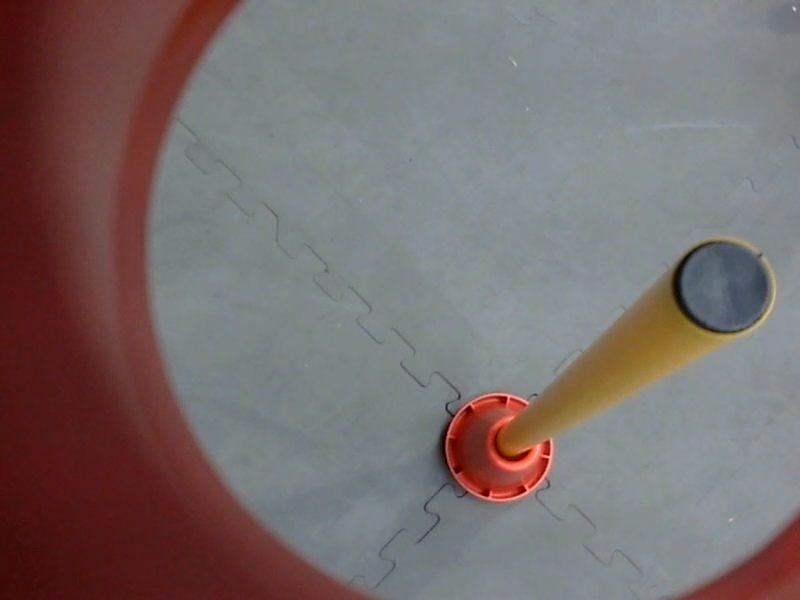tip: (669, 231, 783, 342)
